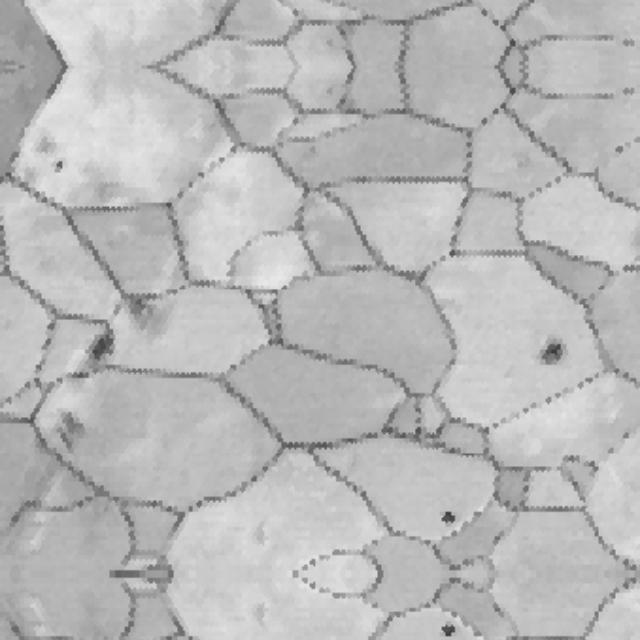good_void: (54, 408, 86, 453), (124, 294, 163, 330), (86, 322, 116, 367), (534, 336, 566, 370), (427, 502, 458, 527), (427, 620, 458, 640), (50, 154, 71, 180)
